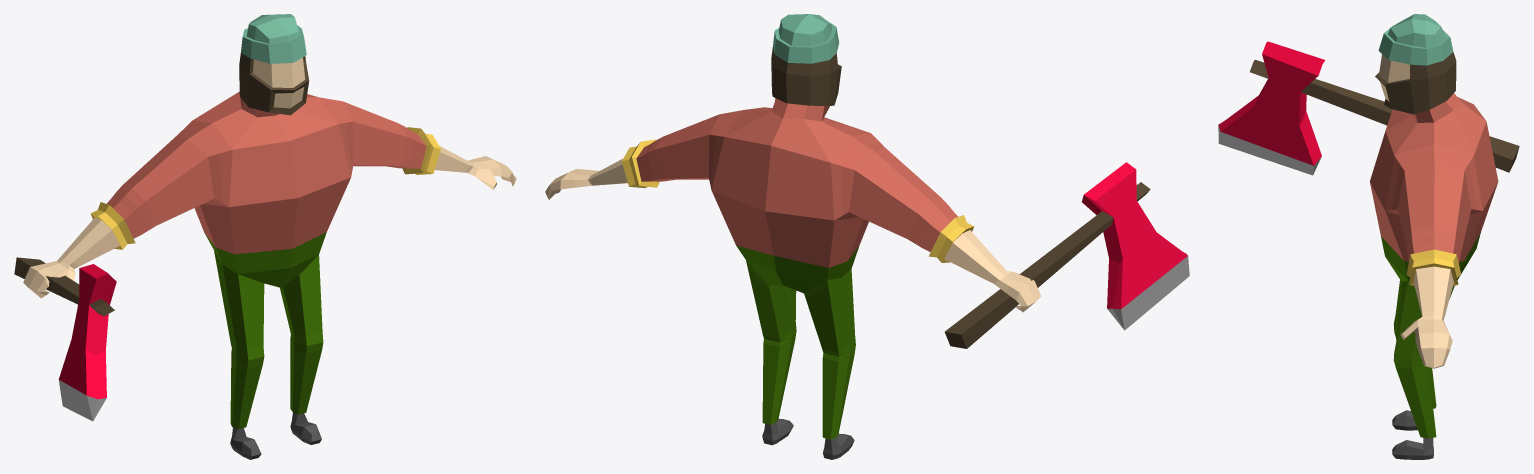
Rendered from drovosek.gltf.
The picture shows the model from 3 angles, left to right: view 1: azimuth 30°, elevation 25°; view 2: azimuth 150°, elevation 25°; view 3: azimuth 270°, elevation 25°; orthographic projection.
Parts seen in each view (by area): view 1: lumberjack_full; view 2: lumberjack_full; view 3: lumberjack_full.
Part boxes in pixels (<box>): lumberjack_full: <box>14,14,516,459</box>; lumberjack_full: <box>545,14,1189,459</box>; lumberjack_full: <box>1218,14,1519,459</box>.
Size of the model in its own units: 0.3867 by 0.2953 by 0.1906.
